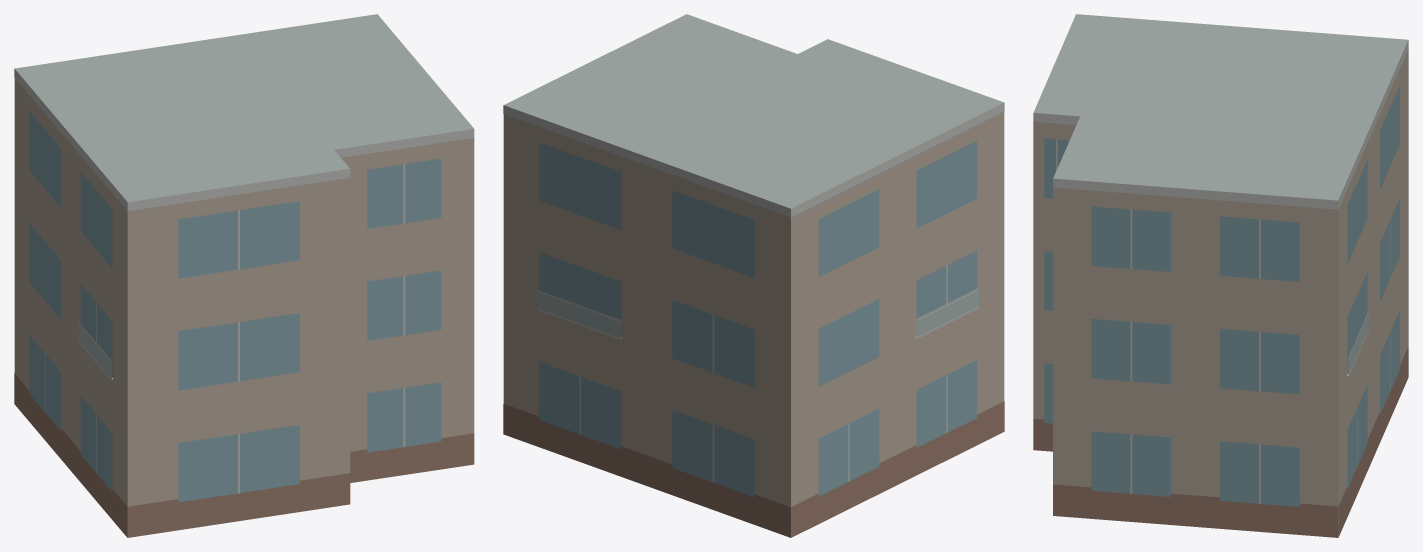
The model's file is survey-upis-32825663.glb.
3 views of the same model, side by side, from view 1: azimuth 30°, elevation 25°; view 2: azimuth 150°, elevation 25°; view 3: azimuth 270°, elevation 25° (orthographic). The views are drawn at different scales.
Visible parts, largest first — view 1: survey-upis-32825663.tmp; view 2: survey-upis-32825663.tmp; view 3: survey-upis-32825663.tmp.
Boxes of the visible parts, x1=… form: survey-upis-32825663.tmp: x1=14, y1=14, x2=474, y2=537; survey-upis-32825663.tmp: x1=503, y1=14, x2=1004, y2=537; survey-upis-32825663.tmp: x1=1033, y1=14, x2=1408, y2=537.
Bounding box in the file's own units: 10.86 × 9.15 × 9.24.
